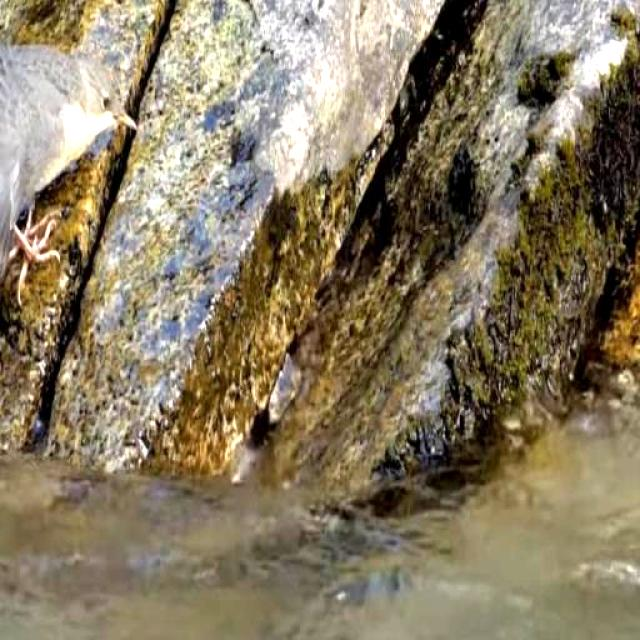airplane: (0, 34, 138, 308)
